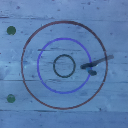Axe Tip: (87, 63, 98, 66)
